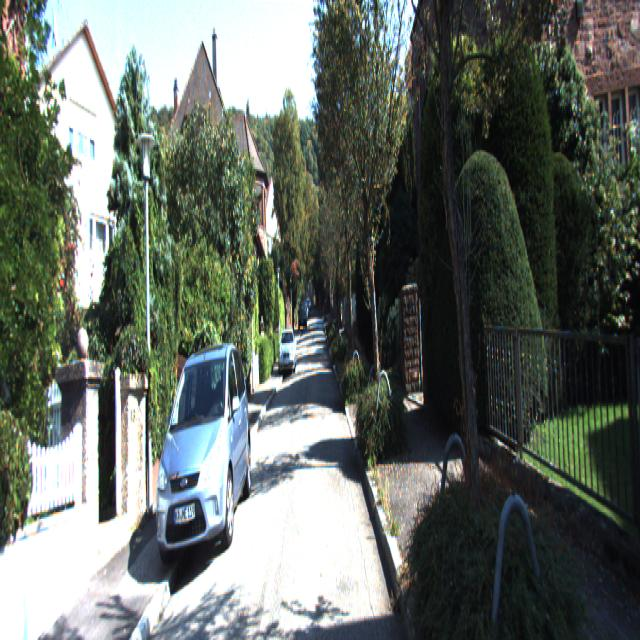Car: (149, 335, 252, 575), (279, 329, 297, 378)
DontCare: (298, 295, 311, 327)
